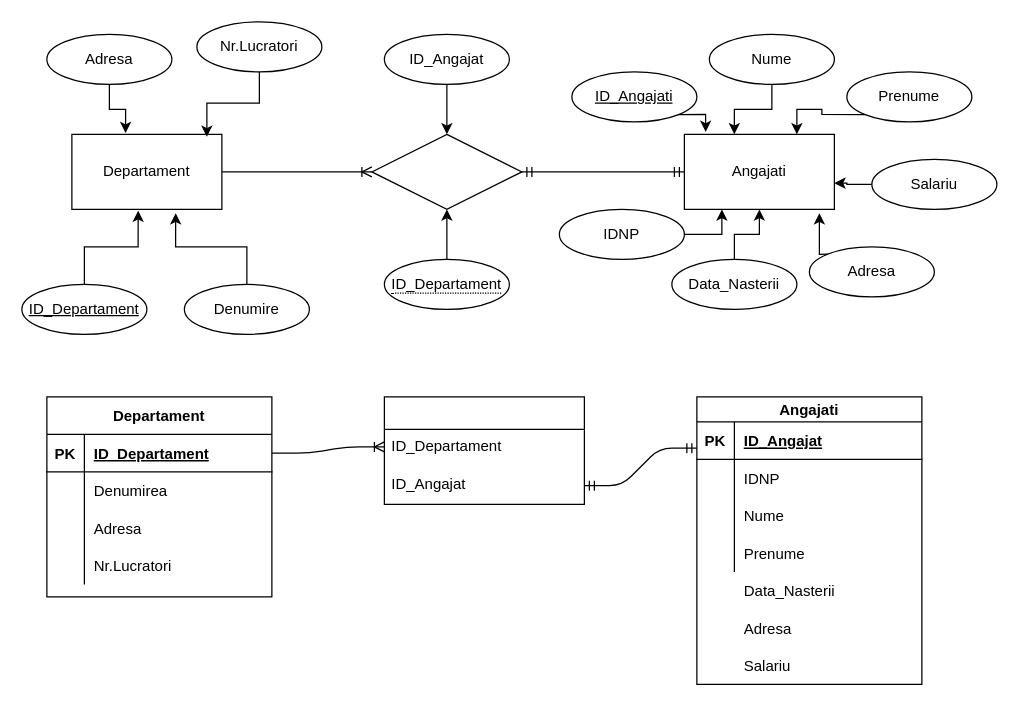
The diagram is 1019 pixels wide and 706 high, and some of its shapes have lost their labels. The shapes that lost their labels are listed below. From the top down, each one's box as (x1, y1, x2, y2) in pixels, then its label:
(371, 133, 522, 209): Lucreaza
(383, 396, 584, 504): Lucreza
